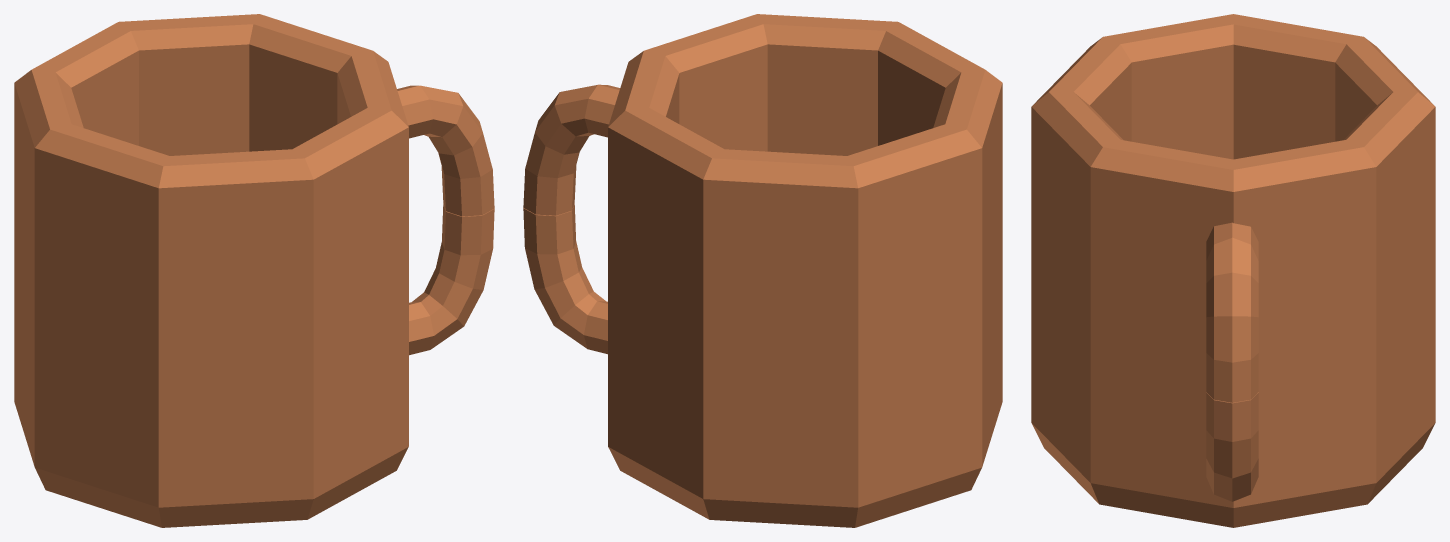
File: Mug.fbx
3 renders of one model, left to right at view 1: azimuth 30°, elevation 25°; view 2: azimuth 150°, elevation 25°; view 3: azimuth 270°, elevation 25°, orthographic.
Parts seen in each view (by area): view 1: Mug; view 2: Mug; view 3: Mug.
Part boxes in pixels (<box>): Mug: <box>14,14,494,527</box>; Mug: <box>523,14,1002,527</box>; Mug: <box>1031,14,1435,527</box>.
Bounding box in the file's own units: 0.1044 × 0.0809 × 0.0809.
Materials: 1 (1 with a texture image).
